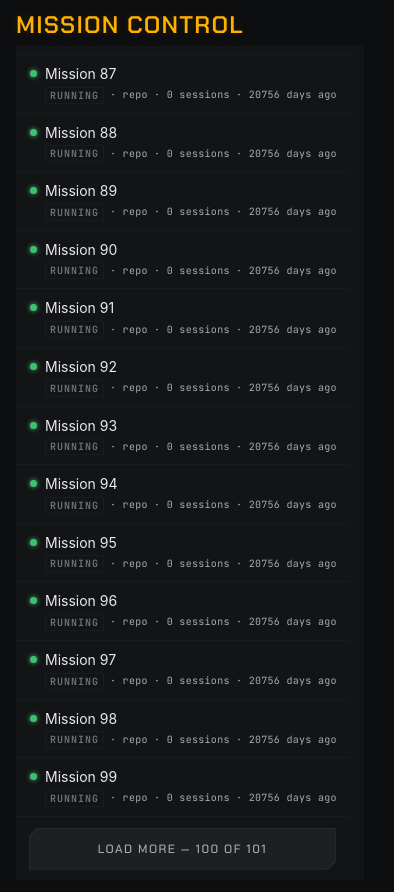
Test: mission 101 is reachable — the rail follows `total`, it does not cap (#879)
The width and height of the screenshot is (394, 892).
(page scrolled)
Expected: the text "Mission 100" is not shown
Step 1. Click the button with test id "rail-load-more" → (182,849), box [28, 827, 337, 871]
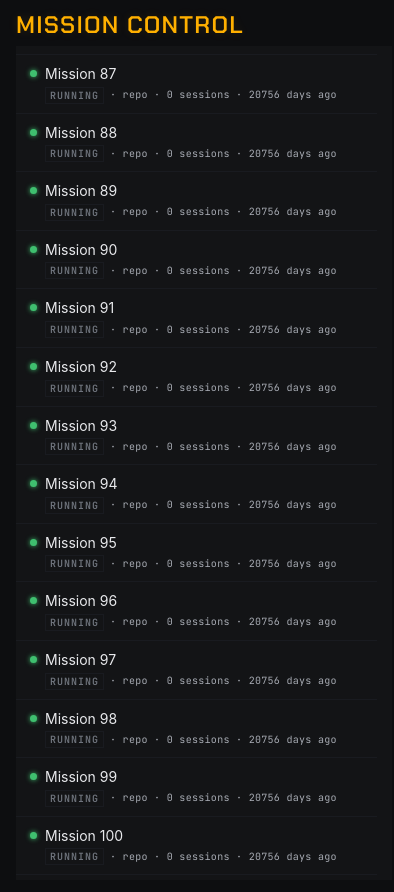
Expected: the text "Mission 100" is shown, [45, 827, 123, 844]
Expected: the button with test id "rail-load-more" is gone
